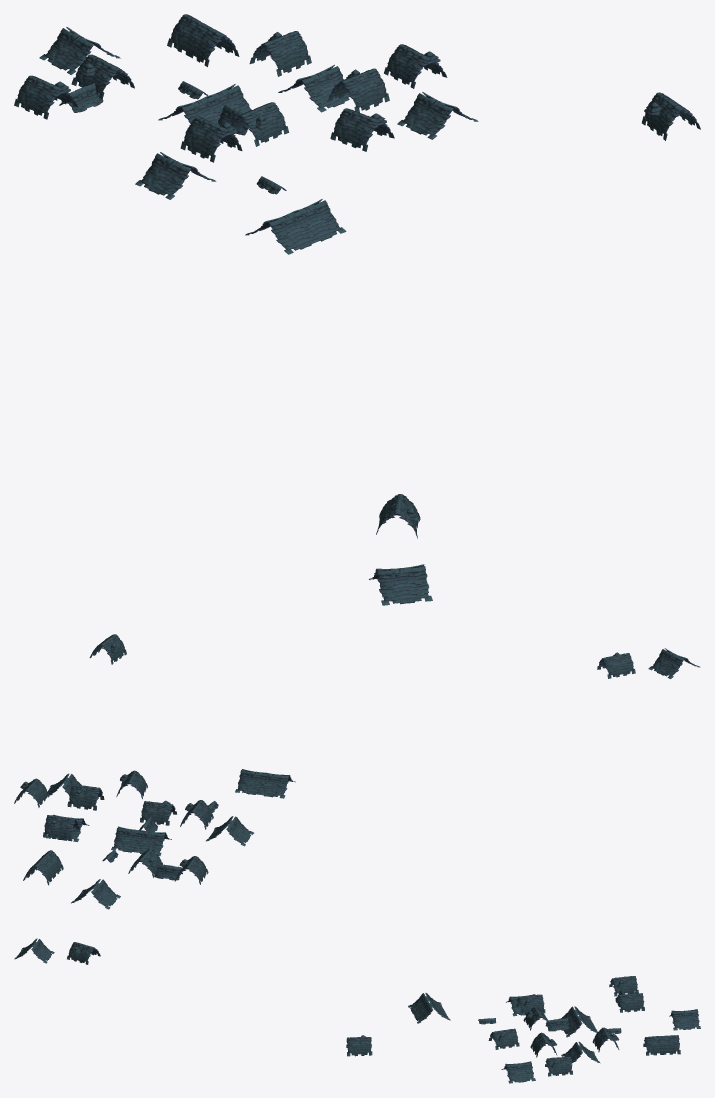
Rendered from BlueRoofsExports.FBX.
3 views of the same model, one above another, from view 1: azimuth 30°, elevation 25°; view 2: azimuth 150°, elevation 25°; view 3: azimuth 270°, elevation 25° (orthographic). The views are drawn at different scales.
Visible parts, largest first — view 1: Blue_Roof_Low_Preparation047; view 2: Blue_Roof_Low_Preparation047; view 3: Blue_Roof_Low_Preparation047.
Boxes of the visible parts, x1,y1,x2,y2 form: Blue_Roof_Low_Preparation047: (14,14,700,605); Blue_Roof_Low_Preparation047: (14,634,700,909); Blue_Roof_Low_Preparation047: (14,938,700,1083).
Size of the model in its own units: 240 by 47.42 by 430.
